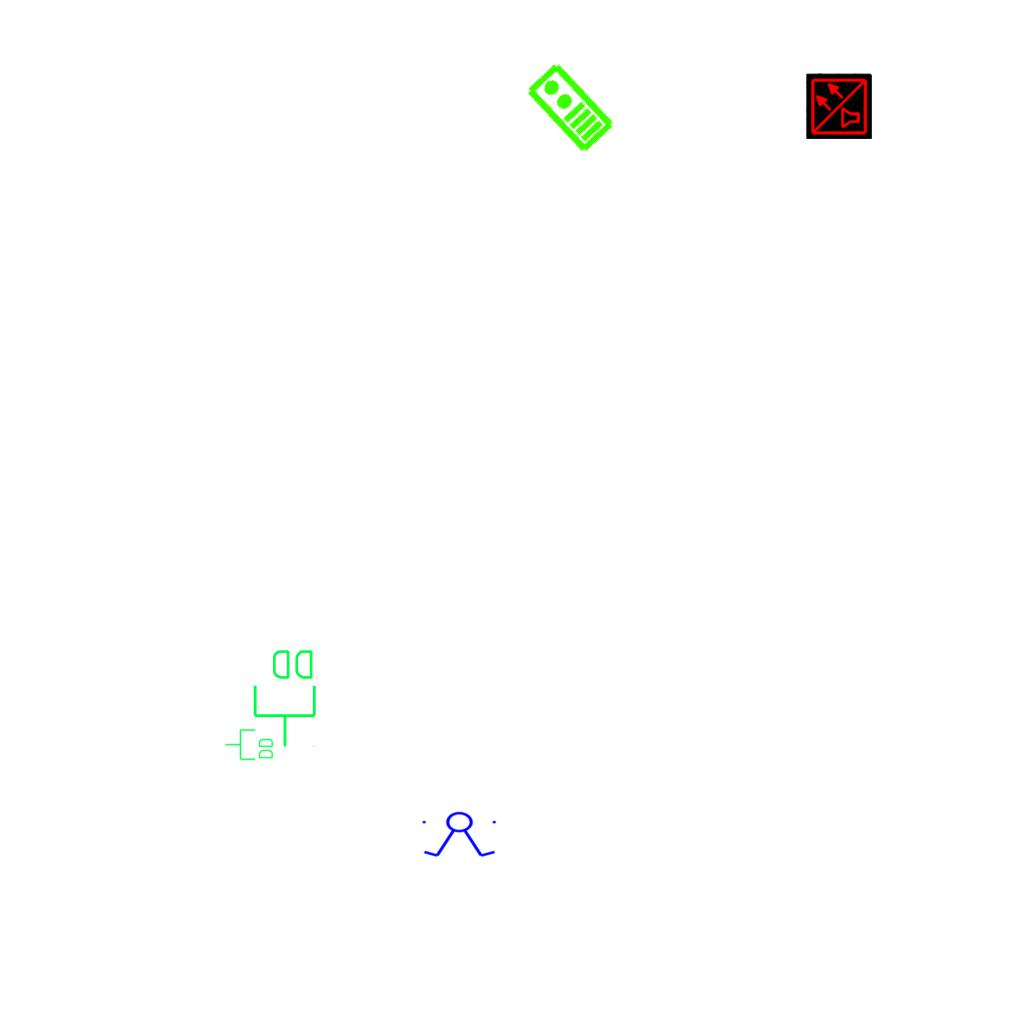Datenanschluss_zweifach: (251, 646, 320, 749), (224, 728, 275, 762)
Gegensprechanlage_mit_Video: (522, 59, 617, 157)
OKW_Multisensormelder_(Kombination_optischer_Rauch-Kahlenmonoxid_Waerme-Melder): (806, 73, 872, 139)
Serienschalter: (418, 811, 502, 859)
